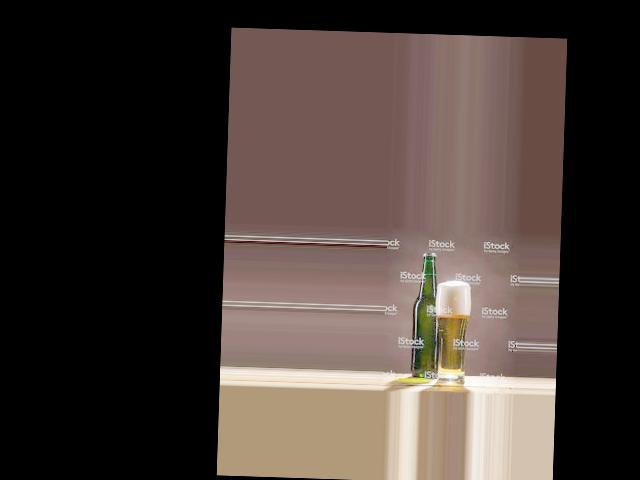beer: (410, 252, 442, 379)
